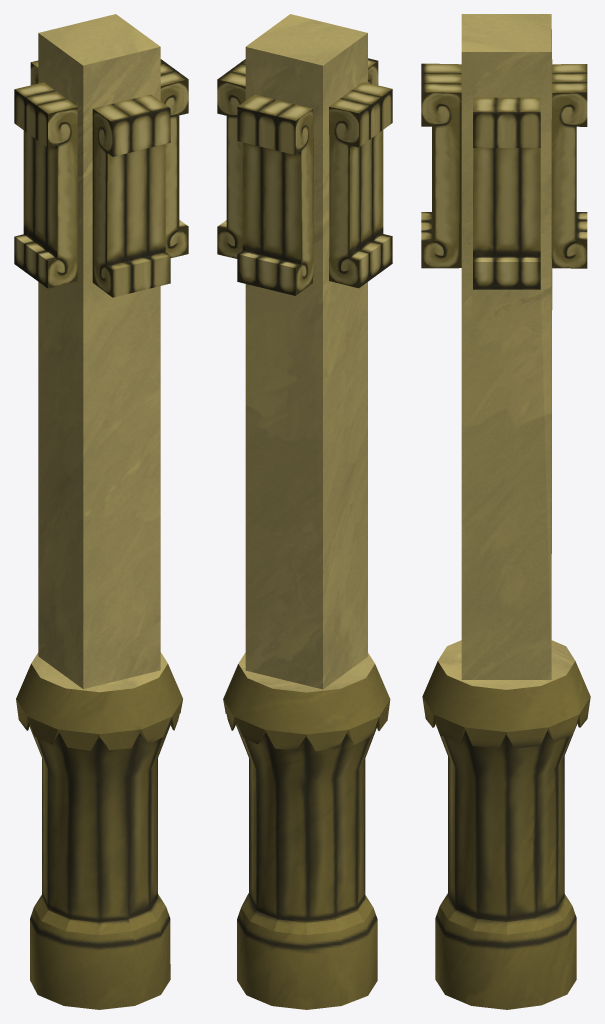
The model's file is ColumnInt 1.FBX.
The picture shows the model from 3 angles, left to right: view 1: azimuth 30°, elevation 25°; view 2: azimuth 150°, elevation 25°; view 3: azimuth 270°, elevation 25°; orthographic projection.
Visible parts, largest first — view 1: Antonio_Bueno_ColumnaInterior; view 2: Antonio_Bueno_ColumnaInterior; view 3: Antonio_Bueno_ColumnaInterior.
Boxes of the visible parts, x1,y1,x2,y2 form: Antonio_Bueno_ColumnaInterior: (14, 14, 188, 1009); Antonio_Bueno_ColumnaInterior: (217, 14, 392, 1009); Antonio_Bueno_ColumnaInterior: (421, 14, 590, 1009).
Size of the model in its own units: 72.57 by 450 by 73.07.
